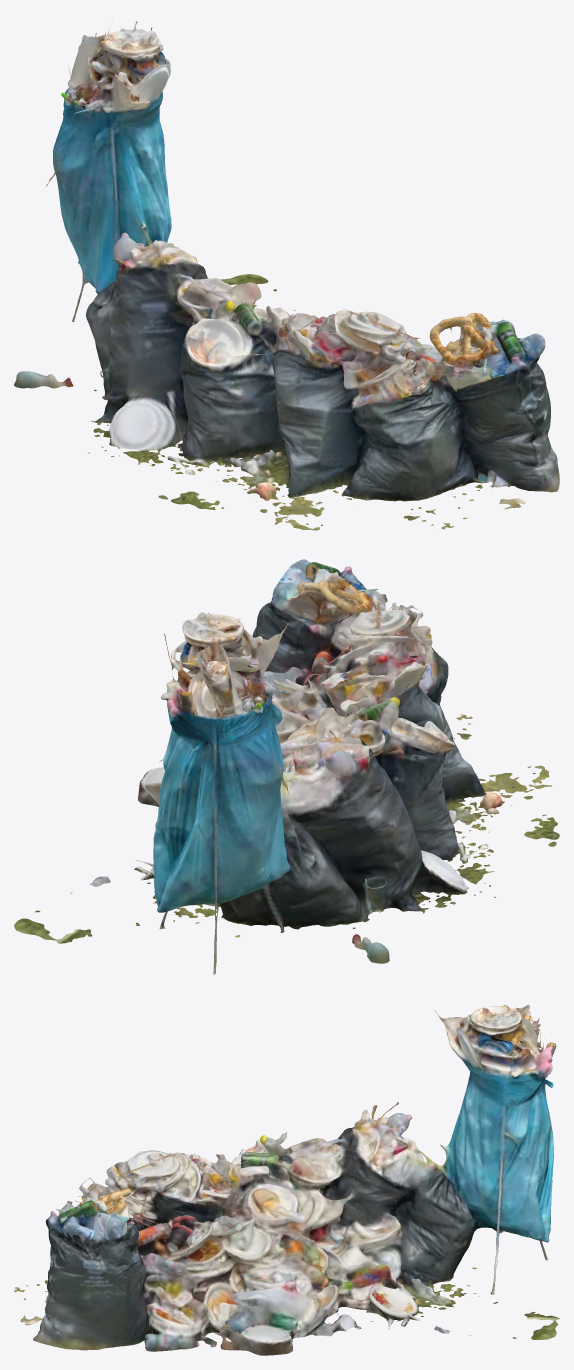
Rendered from food_garbage_opt.glb.
3 renders of one model, top to bottom at view 1: azimuth 30°, elevation 25°; view 2: azimuth 150°, elevation 25°; view 3: azimuth 270°, elevation 25°, orthographic. The views are drawn at different scales.
Visible parts, largest first — view 1: Object_4; view 2: Object_4; view 3: Object_4.
Boxes of the visible parts, x1,y1,x2,y2 form: Object_4: [14, 21, 559, 530]; Object_4: [14, 559, 559, 974]; Object_4: [14, 1004, 559, 1355].
Bounding box in the file's own units: 1.53 × 1.29 × 2.37.
1 material, 1 textured.
